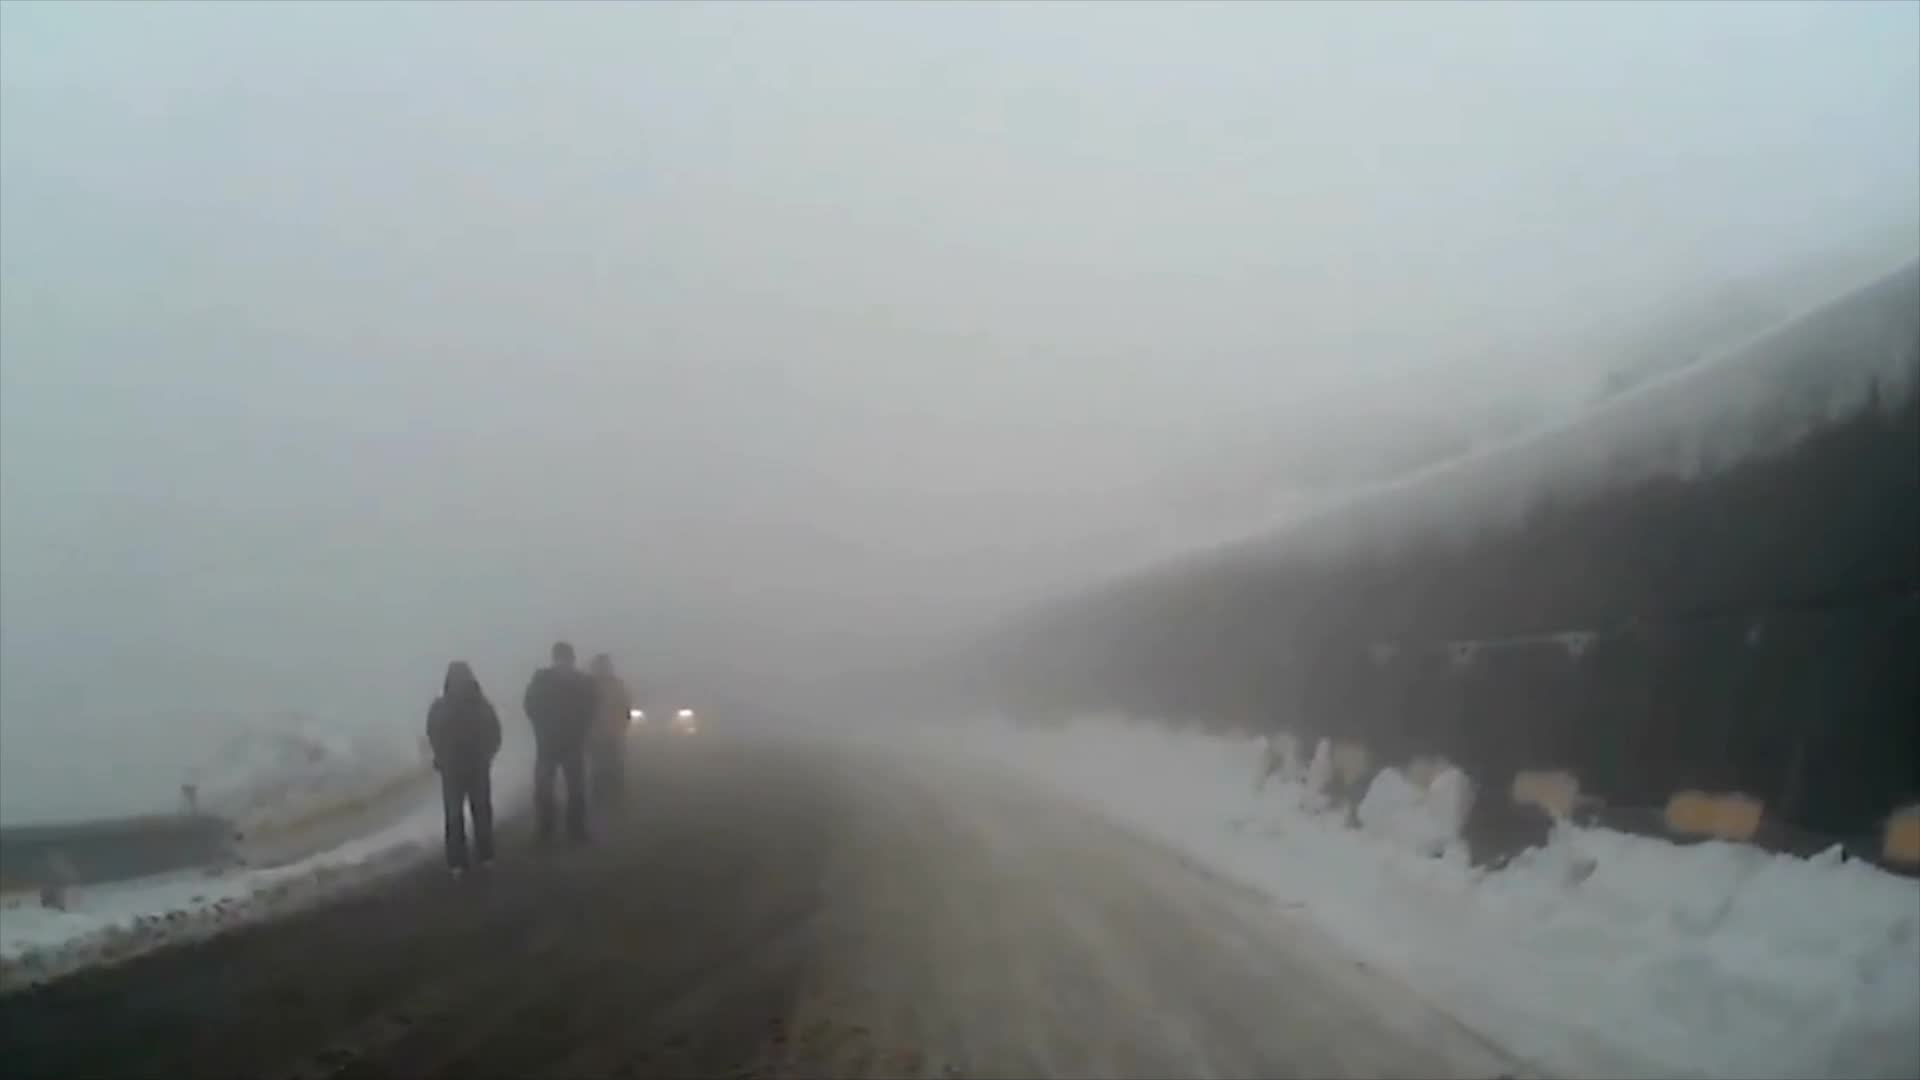pedestrian: (424, 656, 510, 882), (522, 641, 600, 850), (580, 655, 639, 822)
